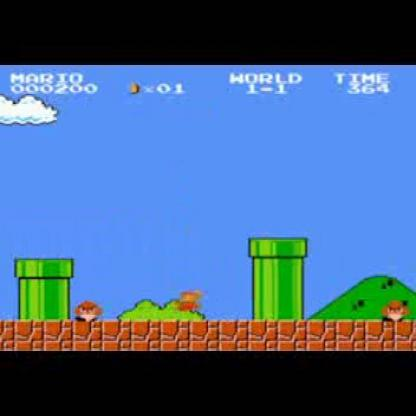Goomba: (380, 297, 410, 323), (74, 299, 101, 323)
